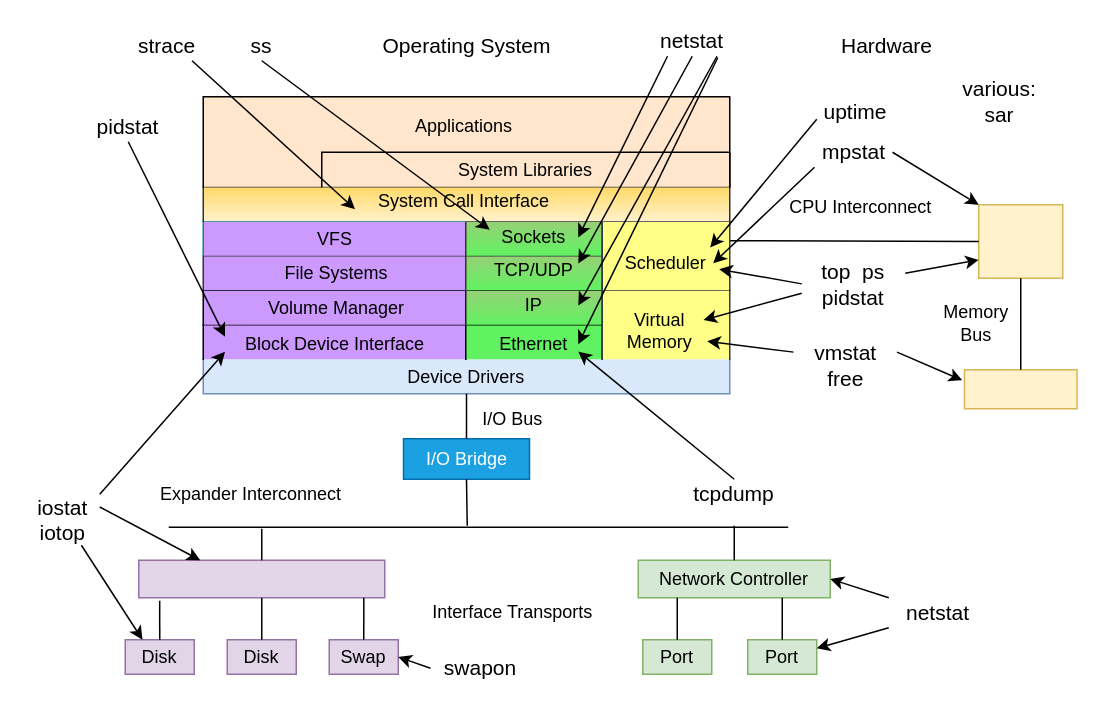
This 1103x708 diagram has some shape labels left out. The shapes that lost their labels are listed below. From the top down, each one's box as (x1, y1, x2, y2) in pixels, then its label:
(977, 203, 1063, 278): CPU1
(963, 368, 1077, 409): DRAM
(137, 559, 385, 598): I/O Controller
